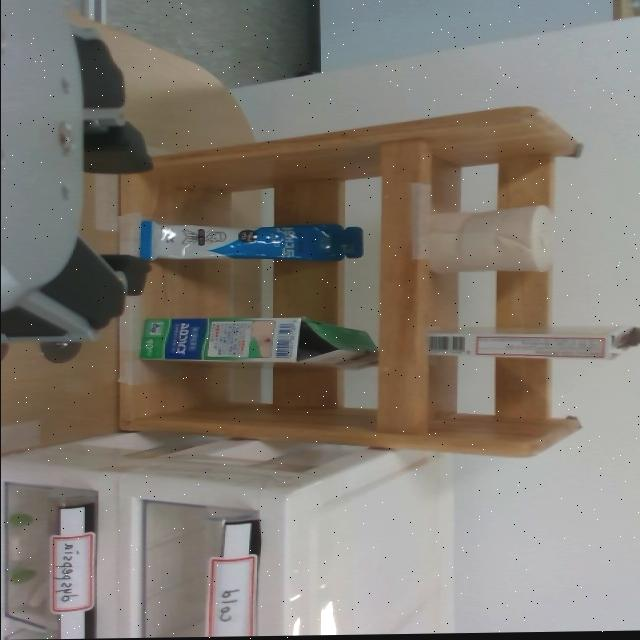bandage: (427, 206, 555, 270)
codaewon_syrup: (143, 215, 369, 266)
sore_patch: (146, 313, 366, 370)
tylenol: (421, 327, 638, 361)
